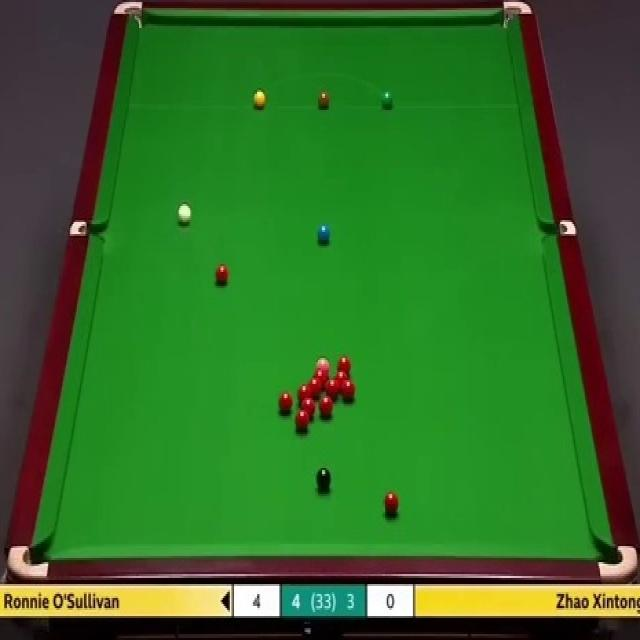pocket: (595, 540, 639, 585), (7, 546, 51, 582), (109, 0, 145, 34), (501, 0, 530, 32), (537, 220, 573, 235), (66, 220, 100, 235)
